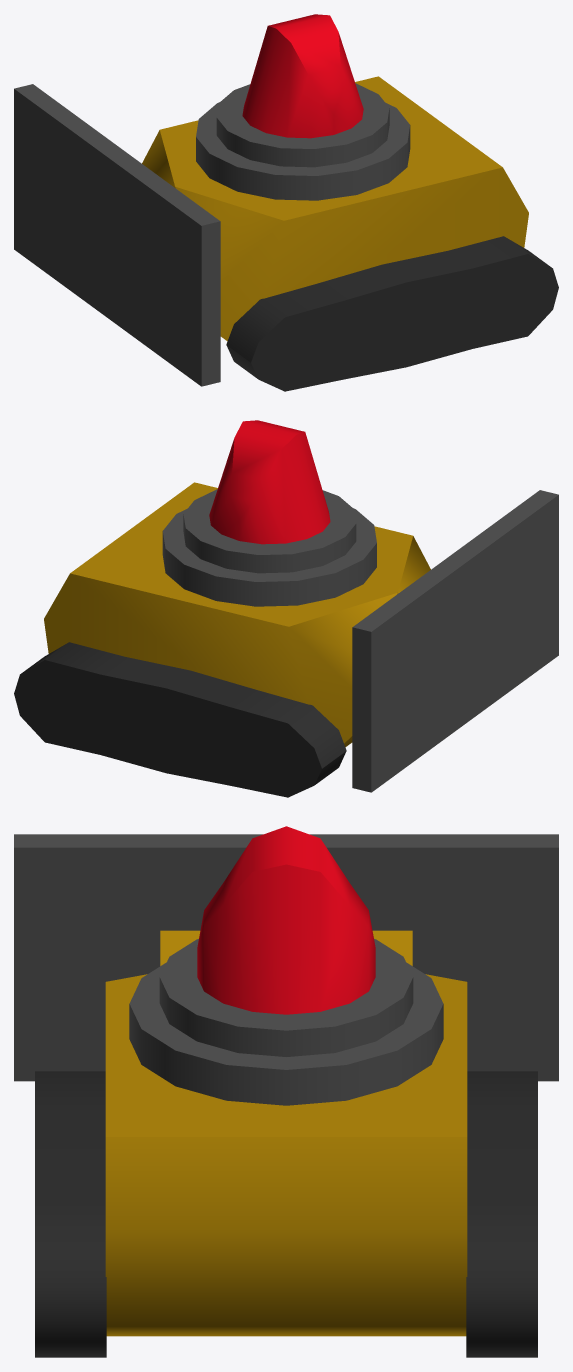
File: bulldozer_robot_1.fbx
3 renders of one model, top to bottom at view 1: azimuth 30°, elevation 25°; view 2: azimuth 150°, elevation 25°; view 3: azimuth 270°, elevation 25°, orthographic. The views are drawn at different scales.
Parts seen in each view (by area): view 1: BulldozerRobot; view 2: BulldozerRobot; view 3: BulldozerRobot.
Part boxes in pixels (x1,y1,x2,y2): BulldozerRobot: [14, 14, 558, 391]; BulldozerRobot: [14, 420, 558, 797]; BulldozerRobot: [14, 826, 558, 1357].
Bounding box in the file's own units: 0.7321 × 0.652 × 0.549.
